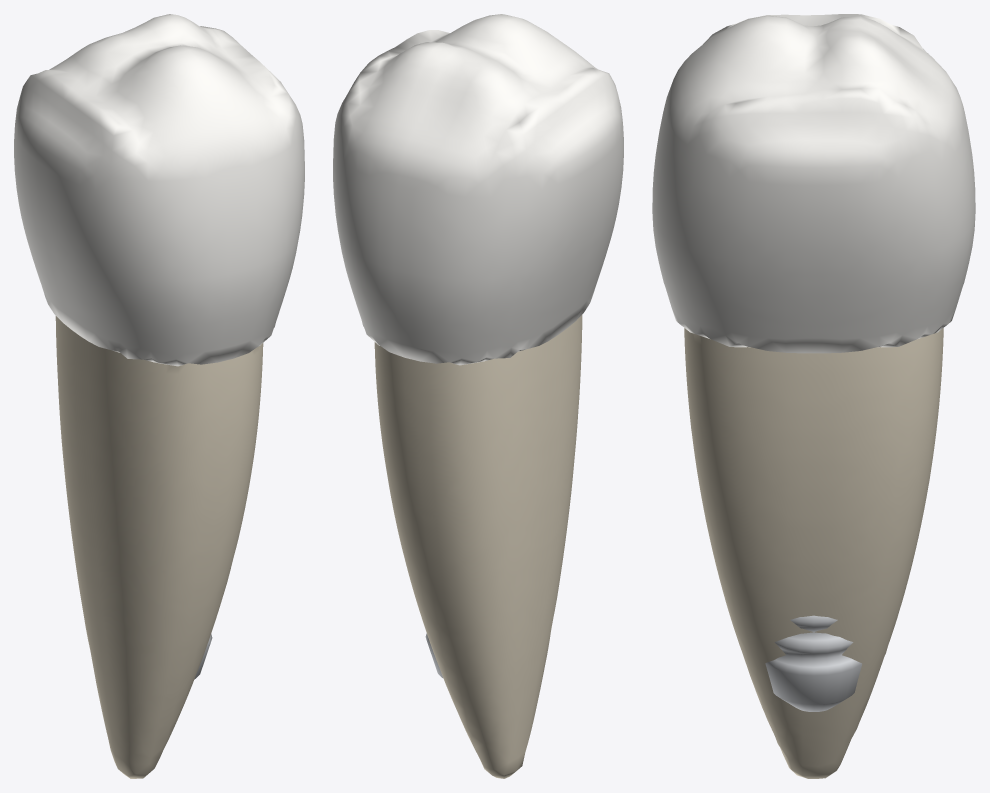
3 views of the same model, side by side, from view 1: azimuth 30°, elevation 25°; view 2: azimuth 150°, elevation 25°; view 3: azimuth 270°, elevation 25° (orthographic). The views are drawn at different scales.
Visible parts, largest first — view 1: crown, root; view 2: crown, root; view 3: crown, root, implant.
Part boxes in pixels (x1,y1,x2,y2): crown: (14, 14, 304, 366); root: (55, 316, 263, 778); crown: (333, 14, 623, 365); root: (374, 315, 582, 778); crown: (652, 14, 975, 353); root: (684, 328, 943, 778); implant: (765, 615, 862, 711).
Size of the model in its own units: 7.69 by 22.86 by 8.69.
